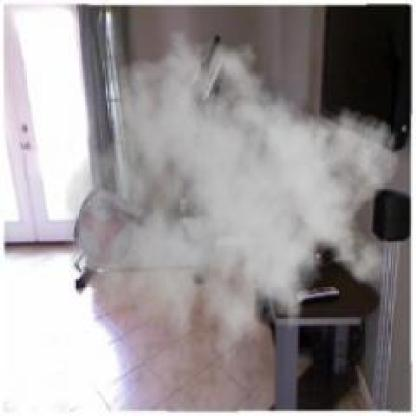Smoke: (63, 20, 402, 382)
